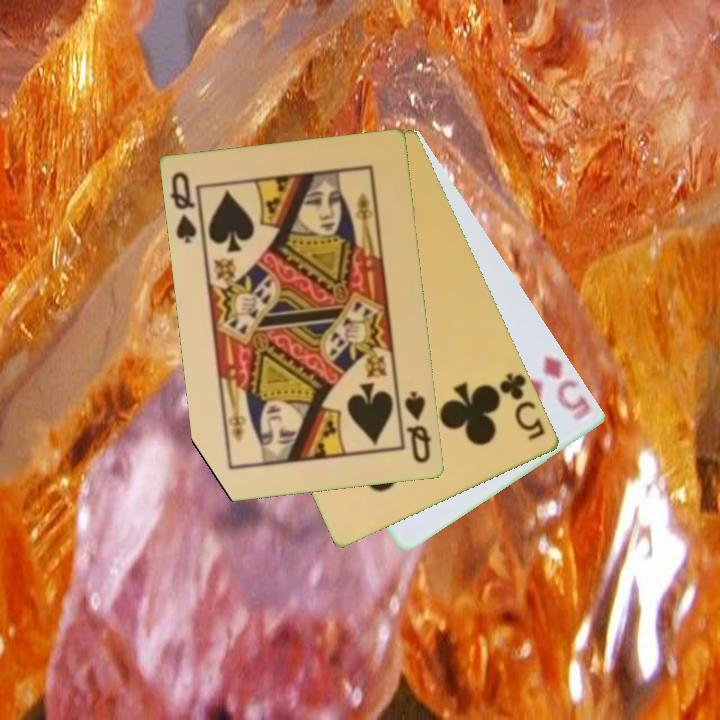5c: (496, 369, 549, 444)
5d: (540, 351, 595, 424)
Qs: (402, 387, 435, 467), (168, 168, 200, 247)
